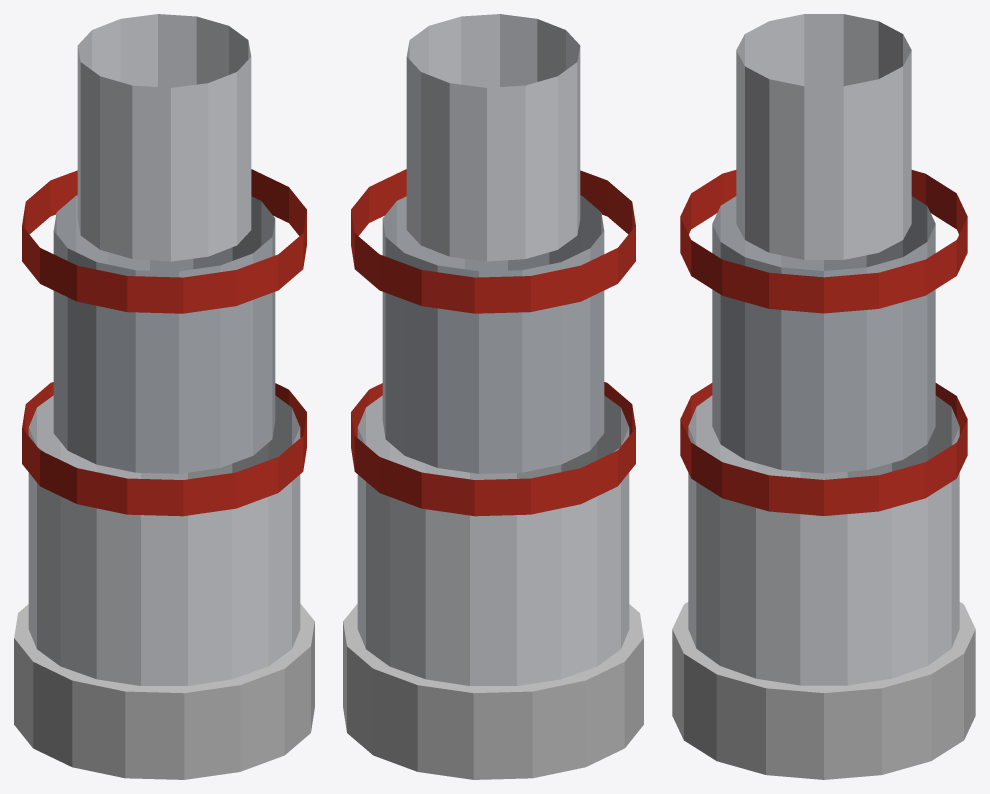
File: three_stage_motor.obj
3 renders of one model, left to right at view 1: azimuth 30°, elevation 25°; view 2: azimuth 150°, elevation 25°; view 3: azimuth 270°, elevation 25°, orthographic.
Parts seen in each view (by area): view 1: three_stage_motor; view 2: three_stage_motor; view 3: three_stage_motor.
Part boxes in pixels (box(x1,y1,x2,y2)): three_stage_motor: box(14, 14, 314, 779); three_stage_motor: box(343, 14, 643, 779); three_stage_motor: box(672, 14, 975, 779).
Size of the model in its own units: 0.19 by 0.46 by 0.19.
